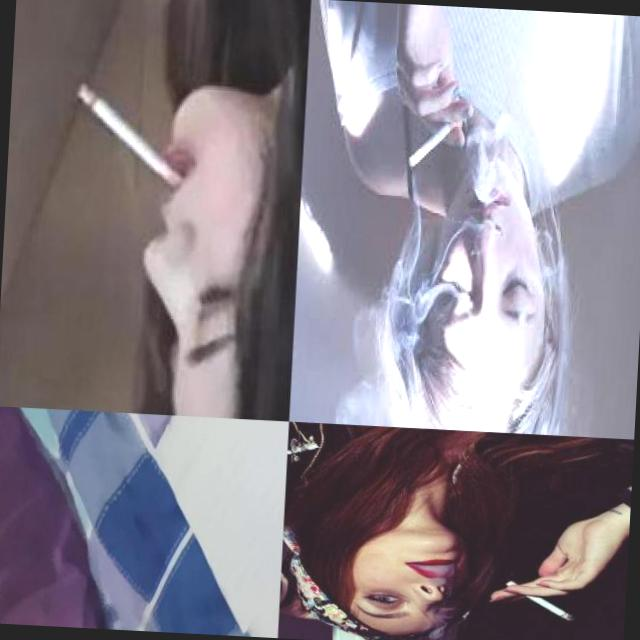cigarette: (59, 74, 208, 203), (408, 110, 466, 170), (504, 579, 583, 623)
